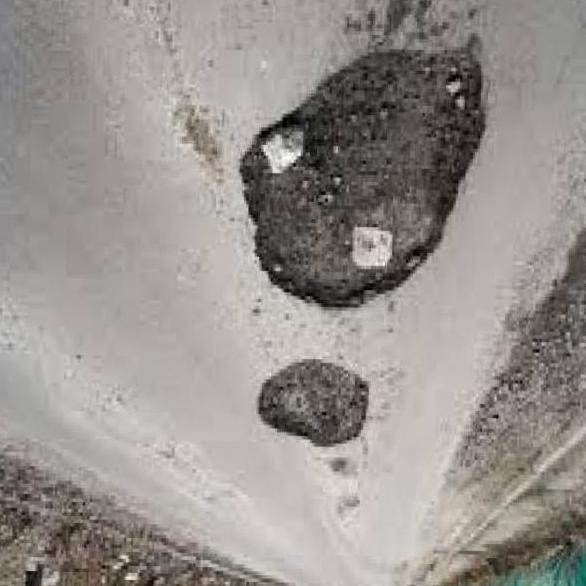pothole: (241, 47, 488, 316), (258, 356, 374, 448)
